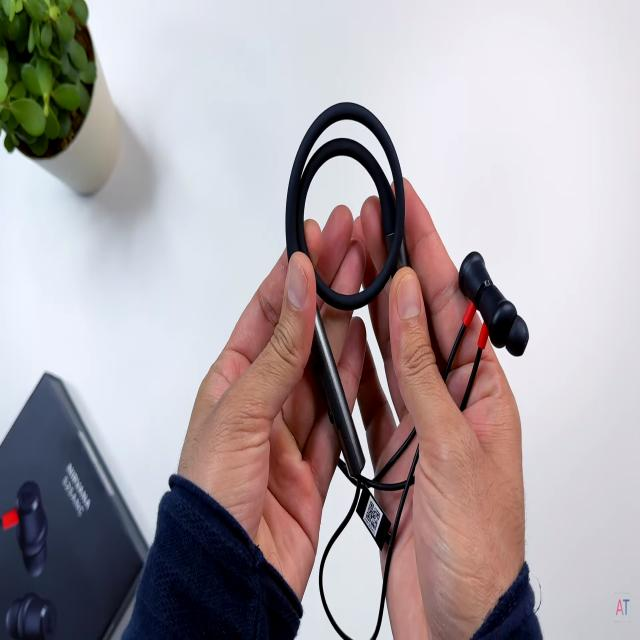Neckband: (284, 101, 530, 640)
